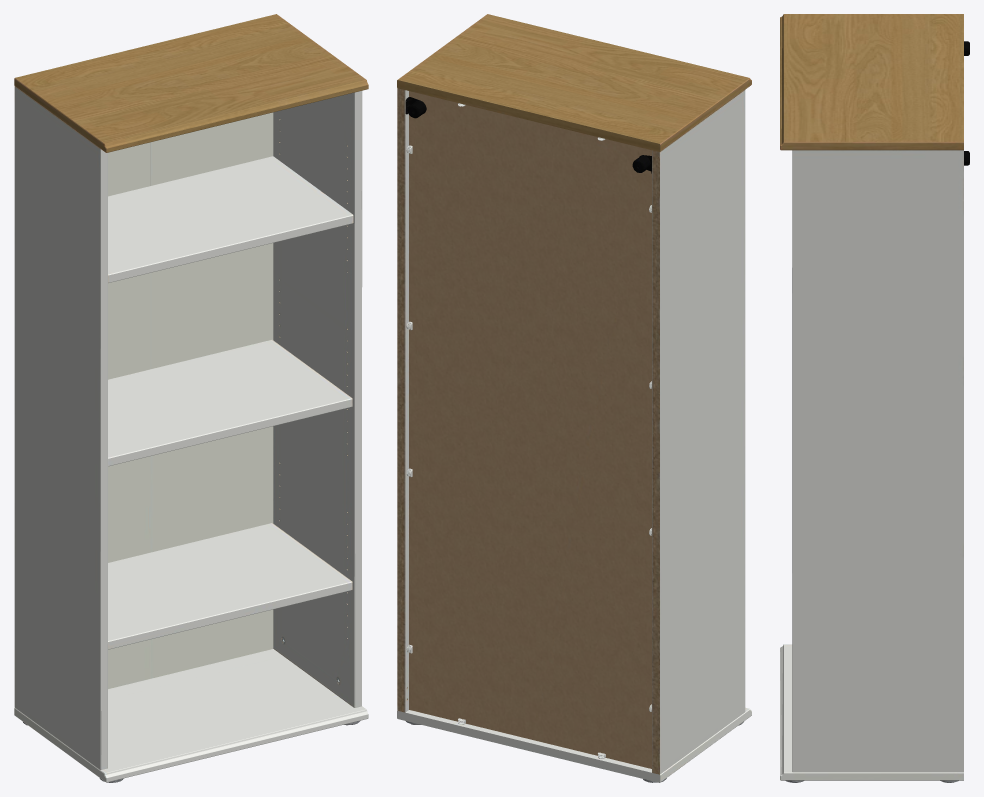
3 renders of one model, left to right at view 1: azimuth 30°, elevation 25°; view 2: azimuth 150°, elevation 25°; view 3: azimuth 270°, elevation 25°, orthographic.
Parts seen in each view (by area): view 1: world; view 2: world; view 3: world.
Part boxes in pixels (x1,y1,x2,y2): world: (14, 14, 368, 782); world: (397, 14, 751, 782); world: (780, 14, 969, 782).
Size of the model in its own units: 0.6 by 1.4 by 0.375.
1 material, 1 textured.
